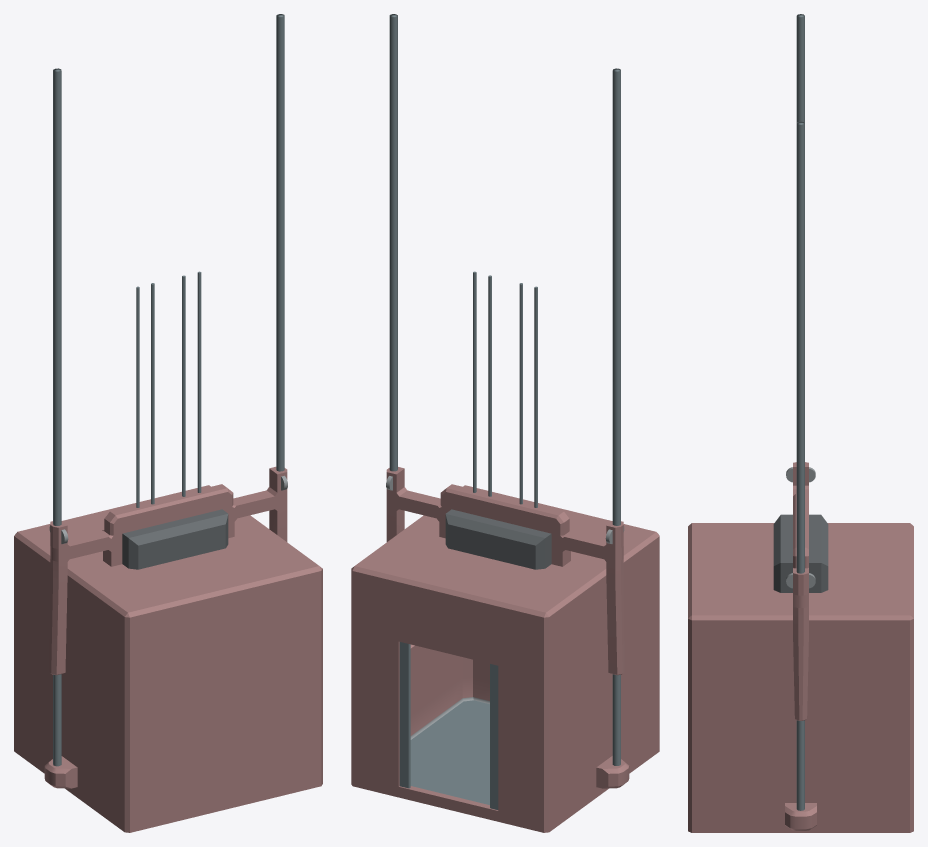
The model's file is Elevator Asset.fbx.
The picture shows the model from 3 angles, left to right: view 1: azimuth 30°, elevation 25°; view 2: azimuth 150°, elevation 25°; view 3: azimuth 270°, elevation 25°; orthographic projection.
Parts seen in each view (by area): view 1: pCylinder22, pCylinder13, pCylinder14, pCylinder15, pCylinder17, pCylinder16, pCylinder18; view 2: pCylinder22, pCylinder13, pCylinder14, pCube33, pCube32, pCylinder17, pCylinder18, pCylinder16, pCylinder15; view 3: pCylinder22, pCylinder14, pCylinder13.
Boxes of the visible parts, box(x1,y1,x2,y2) form: pCylinder22: box(14, 466, 322, 832); pCylinder13: box(53, 68, 61, 766); pCylinder14: box(276, 14, 284, 471); pCylinder15: box(197, 271, 201, 492); pCylinder17: box(151, 283, 154, 504); pCylinder16: box(136, 286, 139, 507); pCylinder18: box(182, 275, 185, 496); pCylinder22: box(351, 467, 659, 832); pCylinder13: box(612, 68, 620, 765); pCylinder14: box(389, 14, 397, 471); pCube33: box(399, 642, 410, 788); pCube32: box(490, 664, 498, 809); pCylinder17: box(519, 283, 522, 504); pCylinder18: box(488, 275, 491, 496); pCylinder16: box(534, 286, 537, 507); pCylinder15: box(473, 271, 476, 492); pCylinder22: box(688, 462, 913, 832); pCylinder14: box(796, 121, 804, 810); pCylinder13: box(796, 14, 804, 122).
Bounding box in the file's own units: 2.72 × 7.82 × 2.24.
